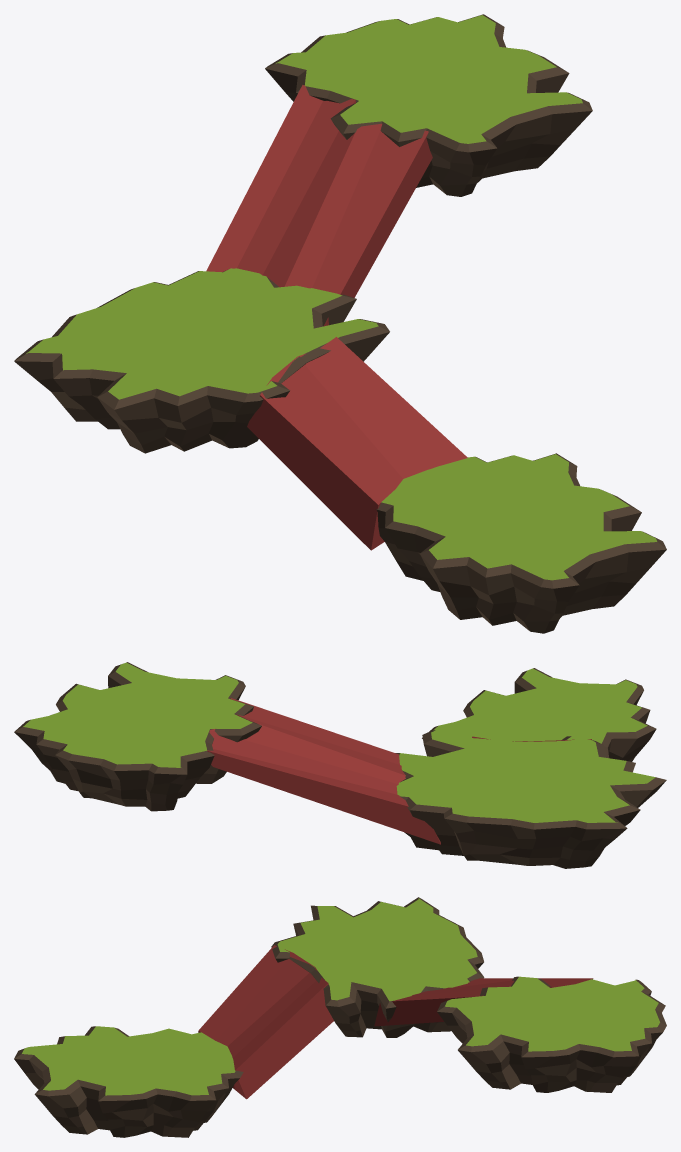
The model's file is LPY_3DM_Cliffs001.glb.
The picture shows the model from 3 angles, top to bottom: view 1: azimuth 30°, elevation 25°; view 2: azimuth 150°, elevation 25°; view 3: azimuth 270°, elevation 25°; orthographic projection. The views are drawn at different scales.
Visible parts, largest first — view 1: Cliff-2, Cliff-1, Cliff-3, Bridge-2, Bridge-1; view 2: Cliff-2, Cliff-3, Bridge-2, Cliff-1; view 3: Cliff-3, Cliff-1, Cliff-2, Bridge-1, Bridge-2.
Boxes of the visible parts, box(x1,y1,x2,y2) form: Cliff-2: box(14, 268, 389, 453); Cliff-1: box(376, 453, 666, 633); Cliff-3: box(265, 14, 592, 196); Bridge-2: box(206, 85, 432, 326); Bridge-1: box(247, 337, 467, 550); Cliff-2: box(395, 730, 666, 868); Cliff-3: box(14, 662, 261, 811); Bridge-2: box(207, 698, 440, 844); Cliff-1: box(422, 668, 656, 761); Cliff-3: box(437, 976, 666, 1092); Cliff-1: box(14, 1026, 243, 1137); Cliff-2: box(271, 897, 484, 1037); Bridge-1: box(198, 945, 333, 1099); Bridge-2: box(374, 978, 593, 1026).
Bounding box in the file's own units: 187 × 68.92 × 235.
3 materials, 3 textured.
